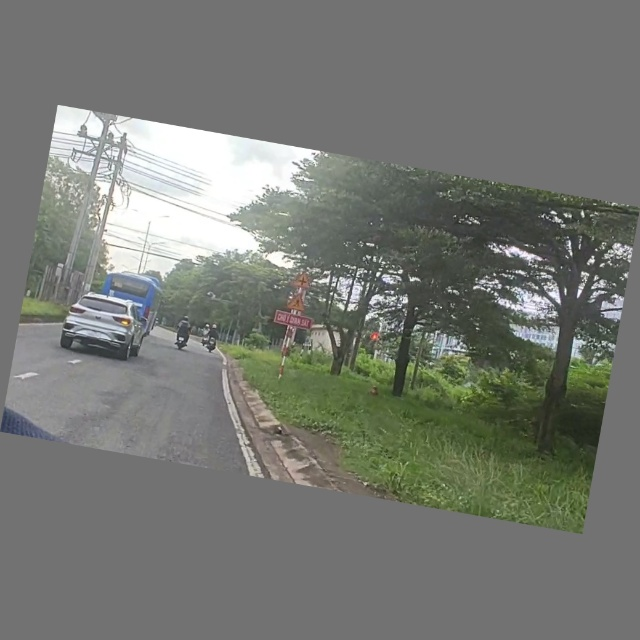W.205a: (290, 270, 315, 292)
W.224: (284, 293, 309, 313)
